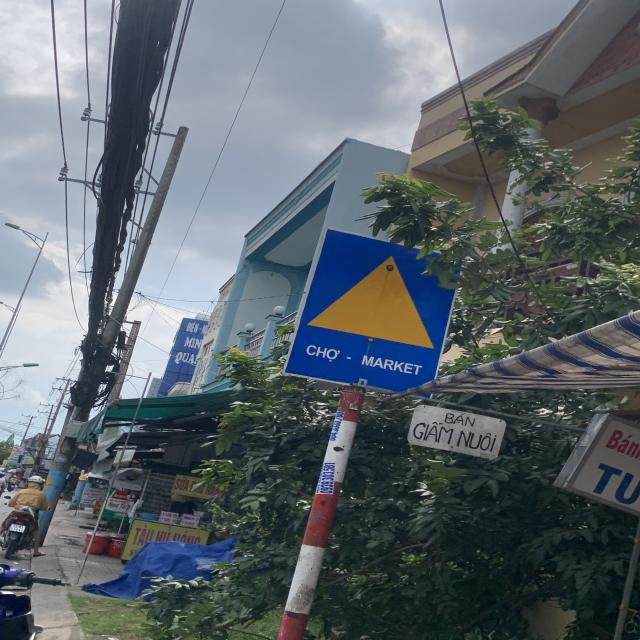Cho_Quay_Xe: (284, 226, 461, 397)
